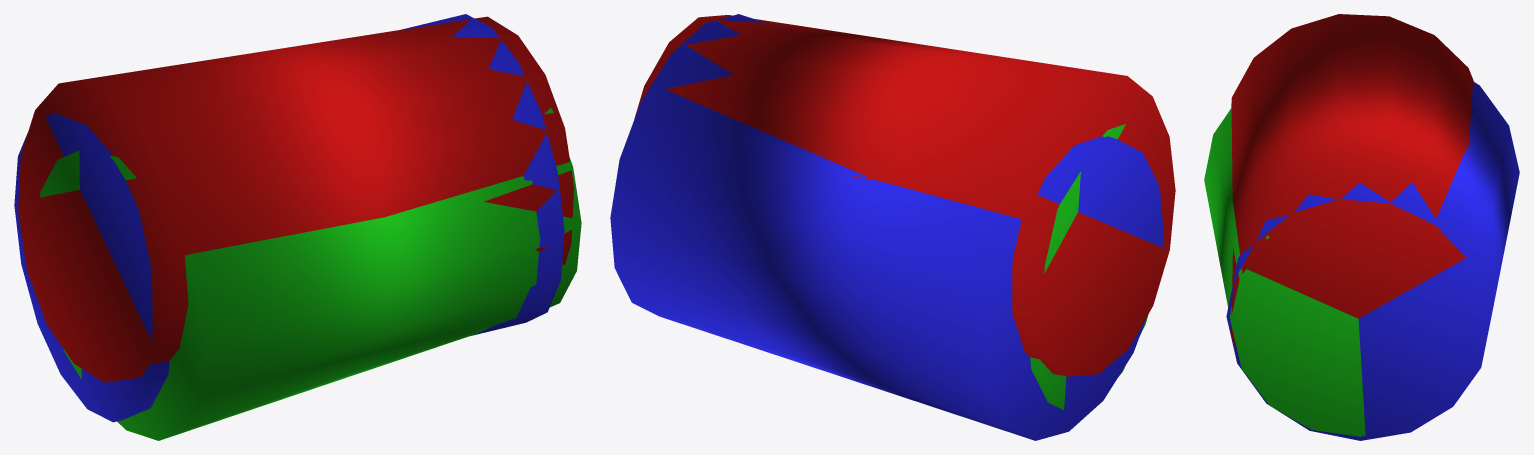
3 views of the same model, side by side, from view 1: azimuth 30°, elevation 25°; view 2: azimuth 150°, elevation 25°; view 3: azimuth 270°, elevation 25° (orthographic). The views are drawn at different scales.
Parts seen in each view (by area): view 1: rod_red, rod_green, rod_blue; view 2: rod_blue, rod_red, rod_green; view 3: rod_red, rod_blue, rod_green.
Part boxes in pixels (x1,y1,x2,y2): rod_red: [18, 16, 574, 382]; rod_green: [40, 108, 581, 440]; rod_blue: [14, 14, 564, 422]; rod_blue: [610, 14, 1163, 440]; rod_red: [634, 15, 1175, 376]; rod_green: [1030, 124, 1148, 410]; rod_red: [1230, 14, 1473, 351]; rod_blue: [1226, 81, 1519, 440]; rod_green: [1204, 108, 1365, 436].
Bounding box in the file's own units: 0.33 × 0.2477 × 0.2541.
